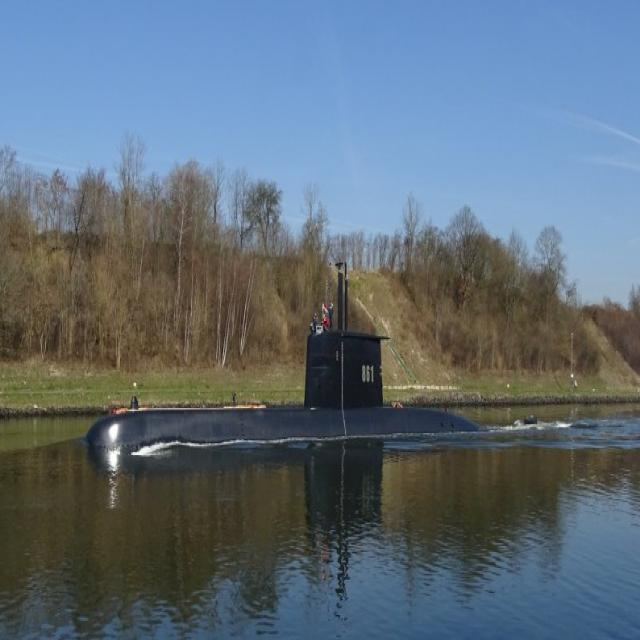submarine: (87, 254, 590, 455)
